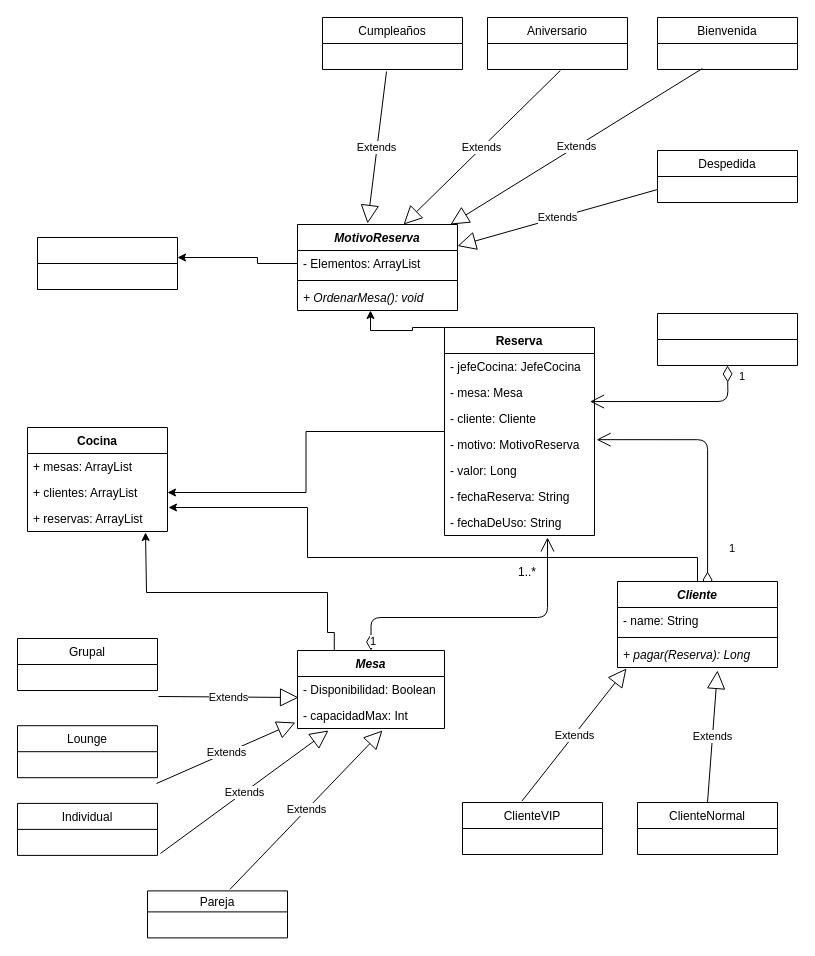
Image size: 815x956. Some labels were removed from this diagram. Each missing label, with the centre of its shape:
"Chef" belongs at [107,263].
"JefeCocina" belongs at [727,339].
